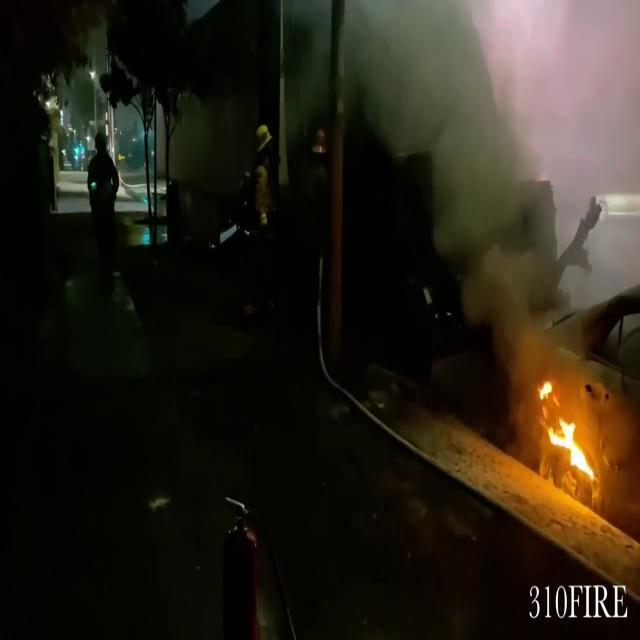Fire: (535, 380, 599, 488)
Smoke: (356, 0, 596, 412)
